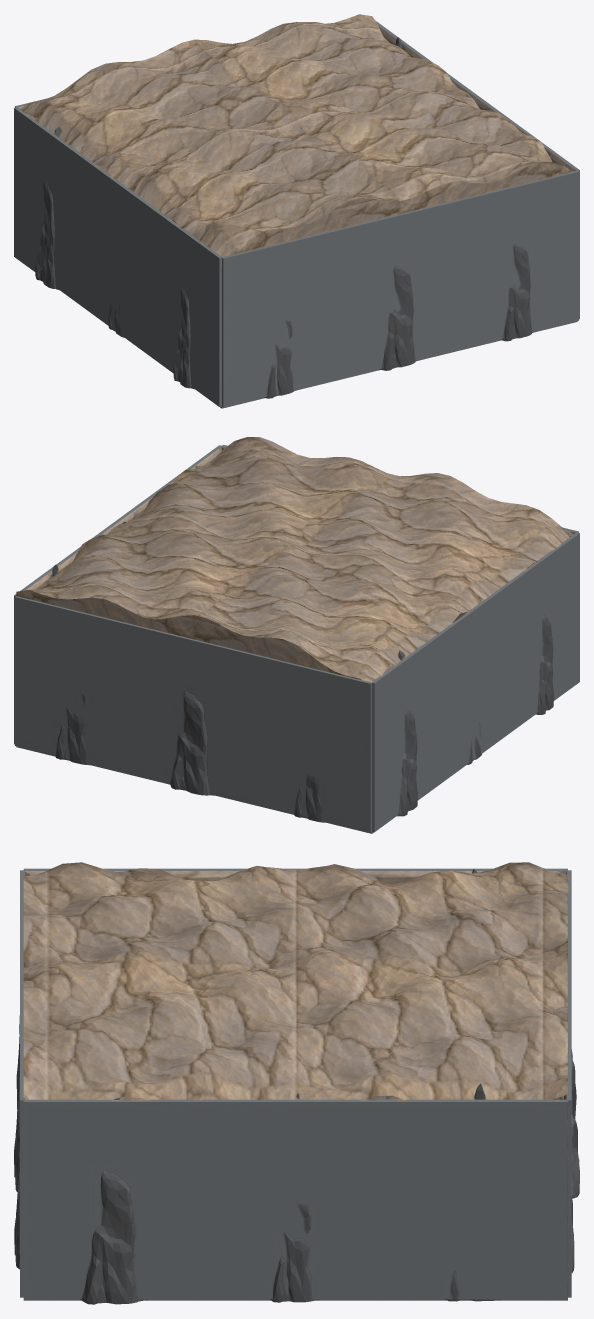
The model's file is room.glb.
3 views of the same model, one above another, from view 1: azimuth 30°, elevation 25°; view 2: azimuth 150°, elevation 25°; view 3: azimuth 270°, elevation 25° (orthographic). The views are drawn at different scales.
Visible parts, largest first — view 1: KENNEL; view 2: KENNEL; view 3: KENNEL.
Boxes of the visible parts, x1,y1,x2,y2 form: KENNEL: (14, 14, 579, 408); KENNEL: (14, 437, 579, 833); KENNEL: (14, 862, 579, 1304).
Size of the model in its own units: 10.44 by 4.79 by 10.4.
1 material, 1 textured.
